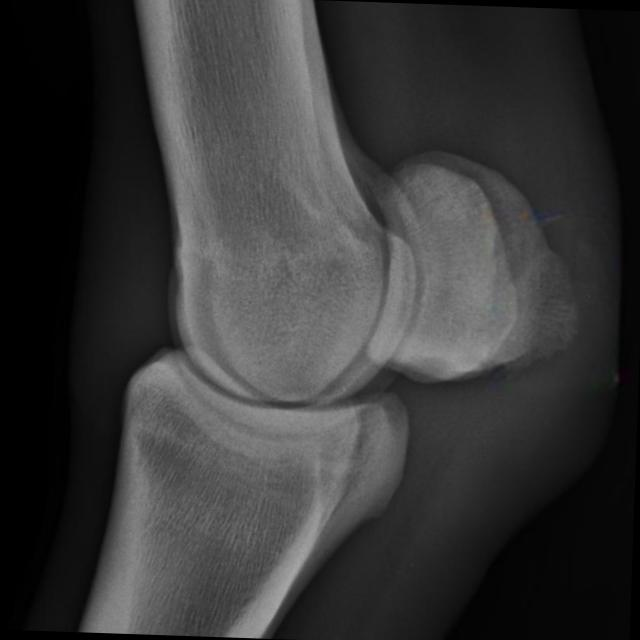bone remodeling: (428, 146, 622, 395)
